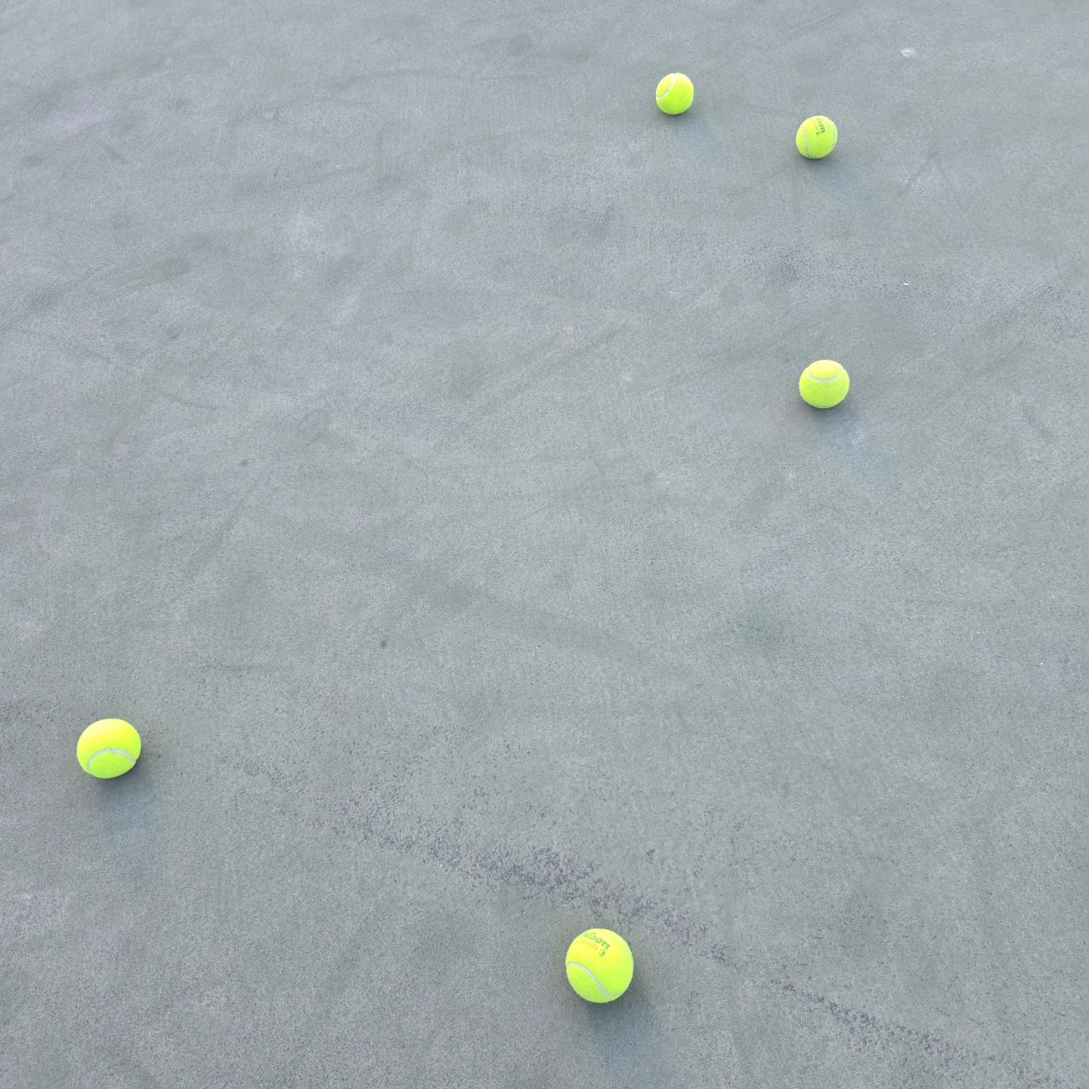tennis-ball: (563, 926, 635, 1005), (75, 716, 142, 779), (797, 357, 850, 408), (794, 113, 838, 159), (653, 70, 694, 115)
